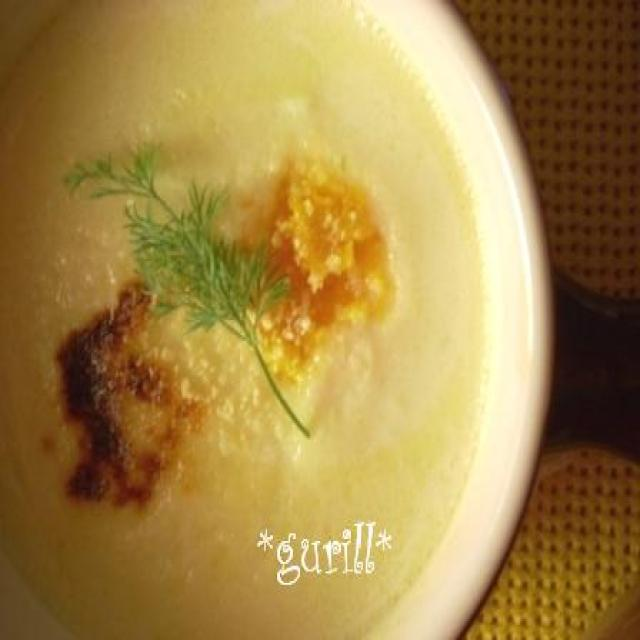汤锅炖物: (0, 0, 556, 522)
